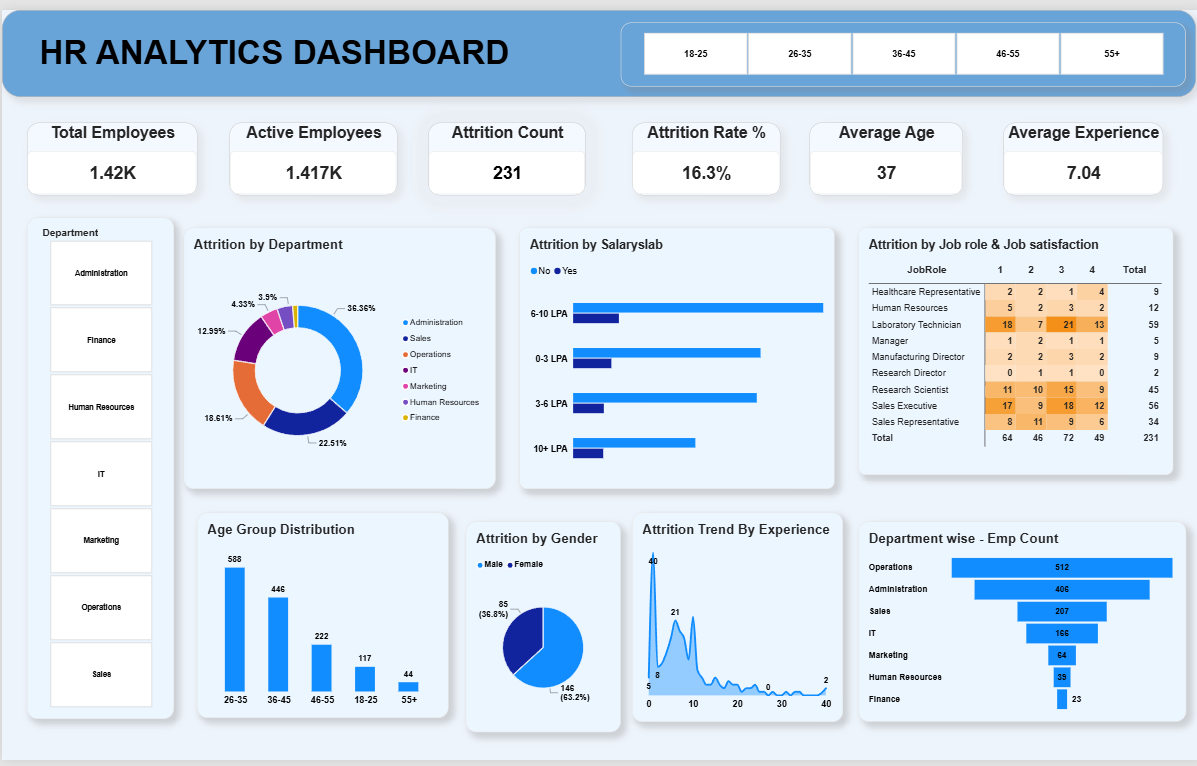

Layout of this report page (visuals, bound fields, positions):
{"tool":"powerbi","page":{"name":"Dashboard","canvas":[1920,1200],"ordinal":0},"visuals":[{"type":"textbox","box":[10,0,280,280],"z":0},{"type":"textbox","box":[0,0,1910.4,139.6],"z":1000},{"type":"cardVisual","title":"Total Employees","fields":{"Data":["CountNonNull(HR_Analytics-4.EmpID)"]},"box":[39.6,179.2,272.9,116.7],"z":2000},{"type":"cardVisual","title":"Active Employees","fields":{"Data":["CountNonNull(HR_Analytics-4.EmployeeCount)"]},"box":[364.6,179.2,268.8,116.7],"z":3000},{"type":"cardVisual","title":"Attrition Count","fields":{"Data":["Sum(HR_Analytics-4.Attrition Count)"]},"box":[681.2,179.2,252.1,116.7],"z":4000},{"type":"cardVisual","title":"Attrition Rate %","fields":{"Data":["HR_Analytics-4.Attrition Rate %"]},"box":[1008.3,179.2,237.5,116.7],"z":5000},{"type":"cardVisual","title":"Average Age","fields":{"Data":["Avg(HR_Analytics-4.Age)"]},"box":[1291.7,179.2,245.8,116.7],"z":6000},{"type":"cardVisual","title":"Average Experience","fields":{"Data":["Avg(HR_Analytics-4.YearsatCompany)"]},"box":[1602.1,179.2,256.2,116.7],"z":7000},{"type":"donutChart","title":"Attrition by Department","fields":{"Category":["HR_Analytics-4.Department"],"Y":["Sum(HR_Analytics-4.Attrition Count)"]},"box":[289.6,347.9,500,418.8],"z":8000},{"type":"clusteredBarChart","title":"Attrition by Salaryslab","fields":{"Category":["HR_Analytics-4.SalarySlab"],"Y":["CountNonNull(HR_Analytics-4.EmpID)"],"Series":["HR_Analytics-4.Attrition"]},"box":[827.1,347.9,504.2,418.8],"z":9000},{"type":"pivotTable","title":"Attrition by Job role & Job satisfaction","fields":{"Rows":["HR_Analytics-4.JobRole"],"Values":["Sum(HR_Analytics-4.Attrition Count)"],"Columns":["HR_Analytics-4.JobSatisfaction"]},"box":[1370.8,347.9,504.2,395.8],"z":10000},{"type":"columnChart","title":"Age Group Distribution","fields":{"Category":["HR_Analytics-4.AgeGroup"],"Y":["Sum(HR_Analytics-4.EmployeeCount)"]},"box":[312.5,804.2,402.1,329.2],"z":11000},{"type":"pieChart","title":"Attrition by Gender","fields":{"Category":["HR_Analytics-4.Gender"],"Y":["Sum(HR_Analytics-4.Attrition Count)"]},"box":[741.7,818.8,247.9,337.5],"z":12000},{"type":"areaChart","title":"Attrition Trend By Experience","fields":{"Category":["HR_Analytics-4.TotalExperience(Years)"],"Y2":["Sum(HR_Analytics-4.Attrition Count)"]},"box":[1008.3,804.2,337.5,335.4],"z":13000},{"type":"funnel","title":"Department wise - Emp Count","fields":{"Category":["HR_Analytics-4.Department"],"Y":["CountNonNull(HR_Analytics-4.EmpID)"]},"box":[1370.8,818.8,525,320.8],"z":14000},{"type":"slicer","fields":{"Values":["HR_Analytics-4.Department"]},"box":[39.6,331.2,235.4,802.1],"z":15000},{"type":"slicer","fields":{"Values":["HR_Analytics-4.AgeGroup"]},"box":[989.6,20.8,904.2,102.1],"z":16000}]}

Visuals, with their boxes in screenshot pixels (x1, y1, x2, y2), scaled from the page's 1920x1200 canvas onto the 1197x766 screenshot:
textbox: x1=6, y1=0, x2=181, y2=179
textbox: x1=0, y1=0, x2=1191, y2=89
"Total Employees" cardVisual: x1=25, y1=114, x2=195, y2=189
"Active Employees" cardVisual: x1=227, y1=114, x2=395, y2=189
"Attrition Count" cardVisual: x1=425, y1=114, x2=582, y2=189
"Attrition Rate %" cardVisual: x1=629, y1=114, x2=777, y2=189
"Average Age" cardVisual: x1=805, y1=114, x2=959, y2=189
"Average Experience" cardVisual: x1=999, y1=114, x2=1159, y2=189
"Attrition by Department" donutChart: x1=181, y1=222, x2=492, y2=489
"Attrition by Salaryslab" clusteredBarChart: x1=516, y1=222, x2=830, y2=489
"Attrition by Job role & Job satisfaction" pivotTable: x1=855, y1=222, x2=1169, y2=475
"Age Group Distribution" columnChart: x1=195, y1=513, x2=446, y2=723
"Attrition by Gender" pieChart: x1=462, y1=523, x2=617, y2=738
"Attrition Trend By Experience" areaChart: x1=629, y1=513, x2=839, y2=727
"Department wise - Emp Count" funnel: x1=855, y1=523, x2=1182, y2=727
slicer - HR_Analytics-4.Department: x1=25, y1=211, x2=171, y2=723
slicer - HR_Analytics-4.AgeGroup: x1=617, y1=13, x2=1181, y2=78
